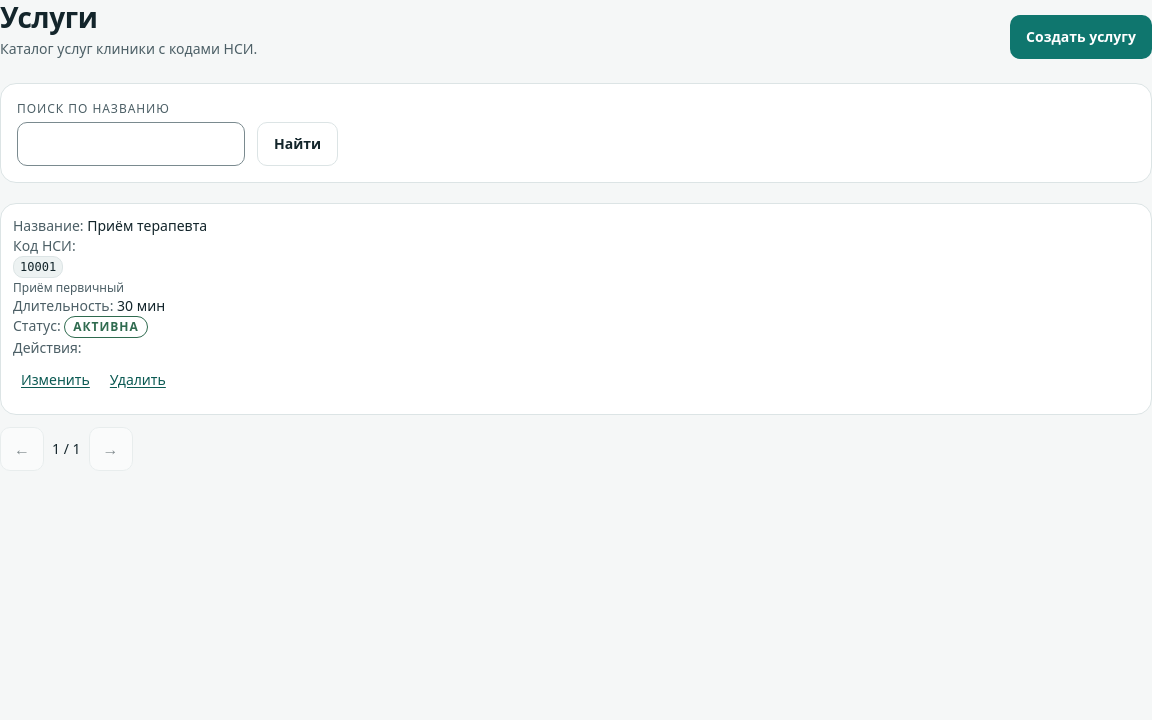
it: ServicesPanel › should show TERMINOLOGY_NOT_FOUND at the code field and focus it when the code is not in the catalogue
The image size is (1152, 720).
Click the button "Создать услугу" at (1081,37), box [1010,15,1151,59]
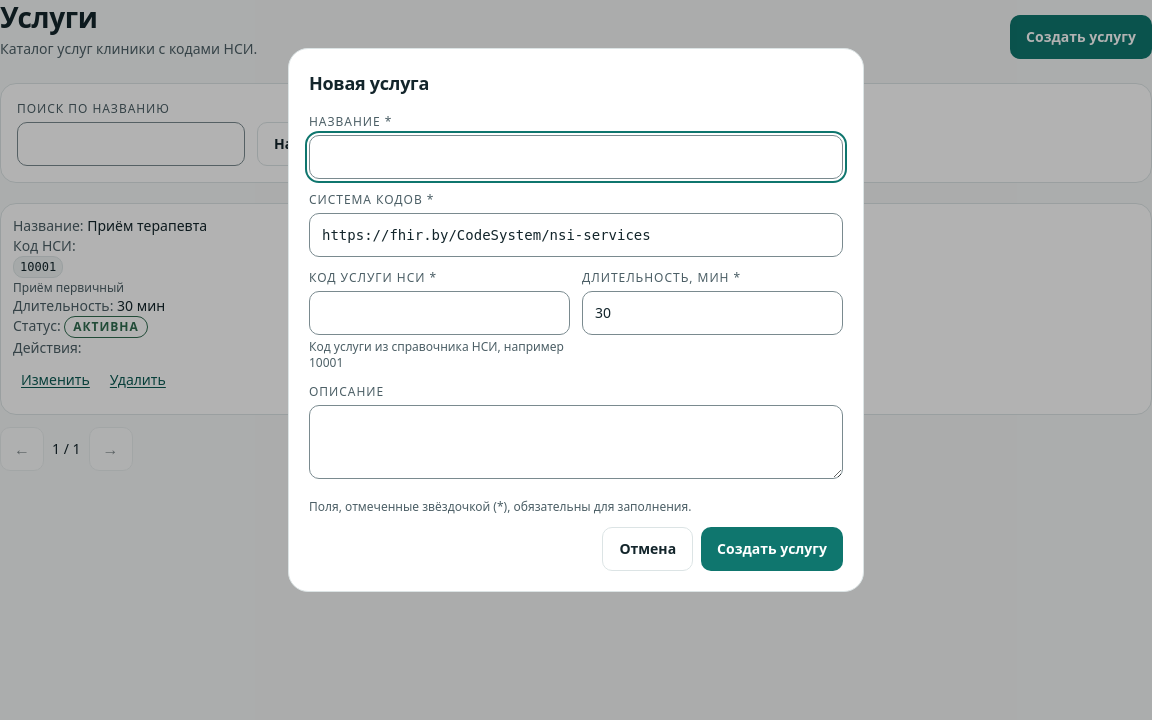
Type "Новая" into the field labelled "Название *" at (576,157), box [309,135,843,179]
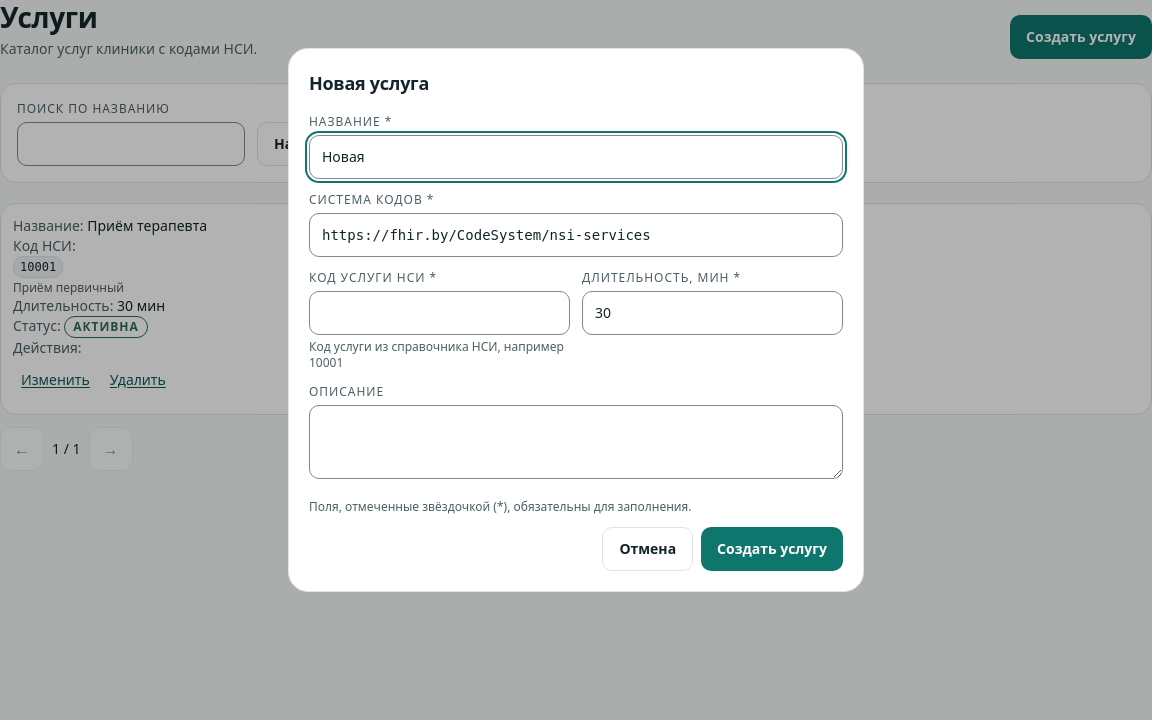
Type "99999" into the field labelled "Код услуги НСИ *" at (440,313), box [309,291,570,335]
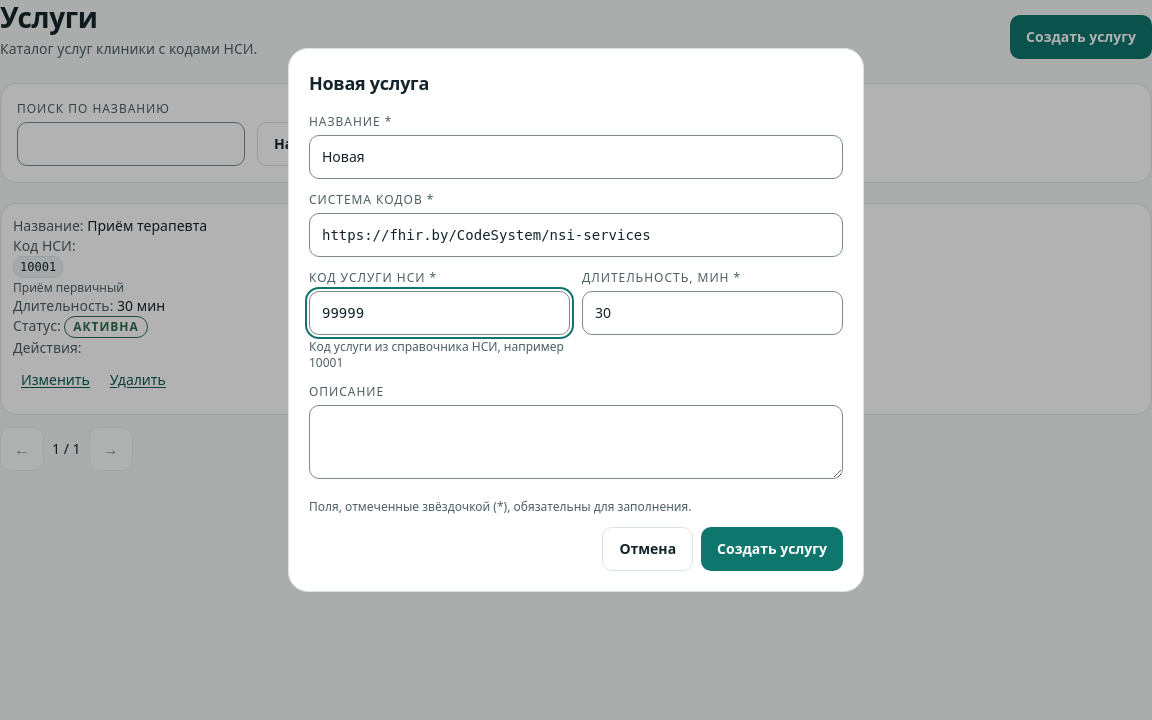
Click the button "Создать услугу" at (772,549), box [701,527,843,571]
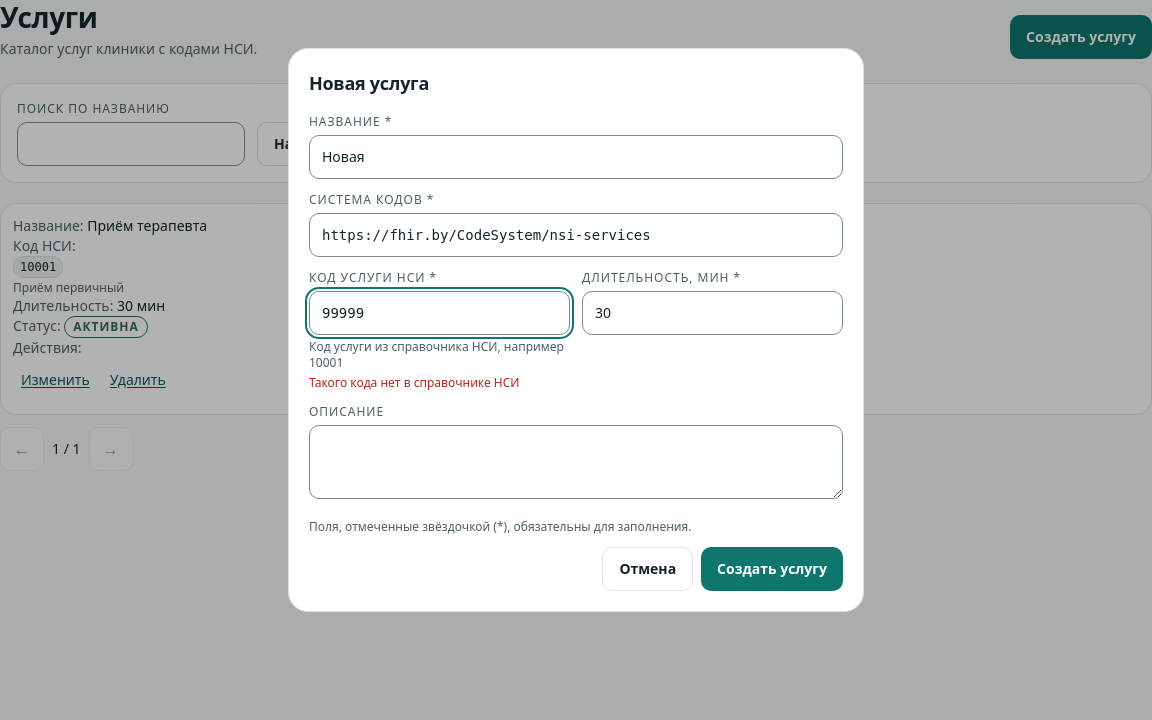
Result: the text "Такого кода нет в справочнике НСИ" is shown at [309,374,520,391]
